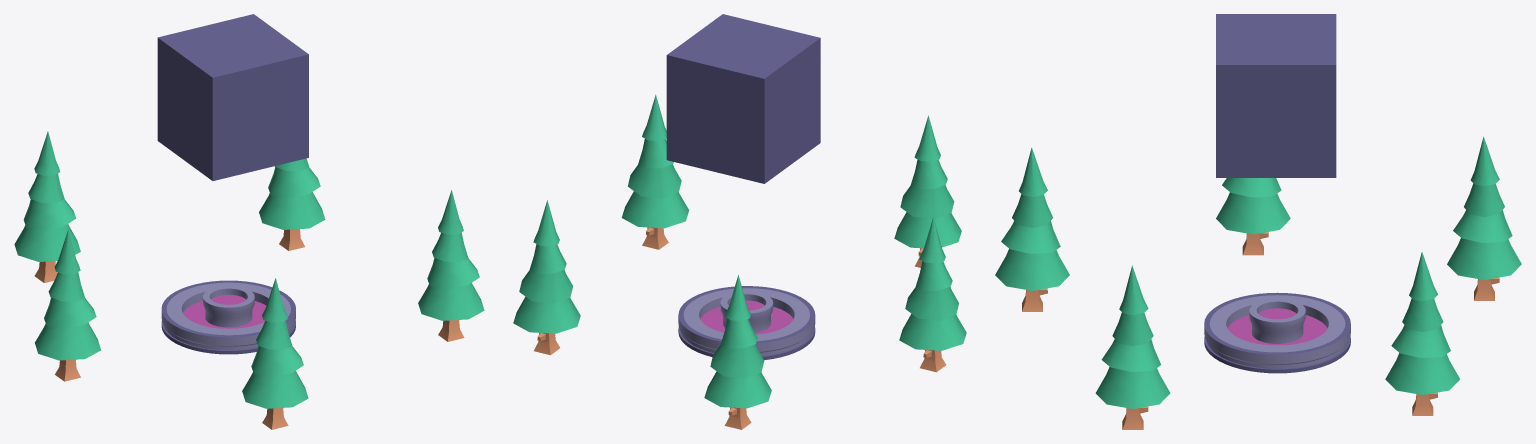
Rendered from ominous_floating_cube.glb.
3 renders of one model, left to right at view 1: azimuth 30°, elevation 25°; view 2: azimuth 150°, elevation 25°; view 3: azimuth 270°, elevation 25°, orthographic. The views are drawn at different scales.
Visible parts, largest first — view 1: mergedBlocks(Clone); view 2: mergedBlocks(Clone); view 3: mergedBlocks(Clone).
Part boxes in pixels (x1,y1,x2,y2): mergedBlocks(Clone): [14, 14, 484, 429]; mergedBlocks(Clone): [513, 14, 966, 429]; mergedBlocks(Clone): [995, 14, 1521, 429].
Size of the model in its own units: 1.33 by 0.9171 by 1.44.
